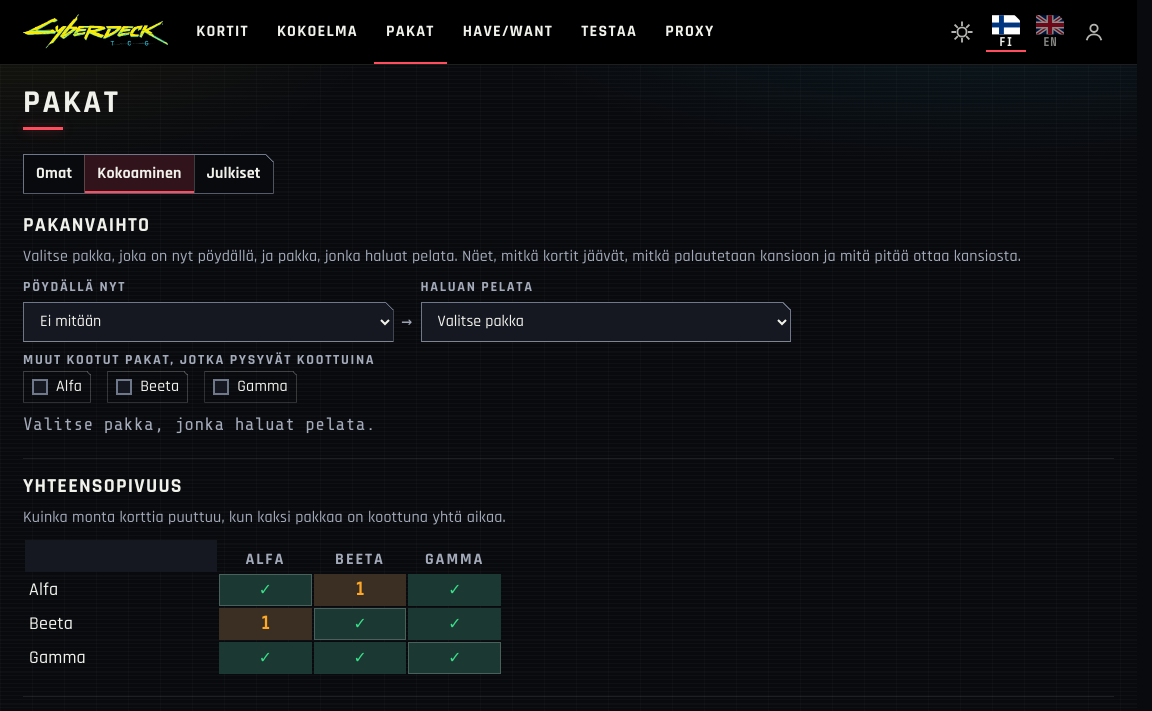
Test case: Kokoaminen tab (T-164) › says so when the same deck is on the table
Select "Alfa" in the dropdown labelled "Pöydällä nyt": (208, 322) [23, 302, 394, 342]
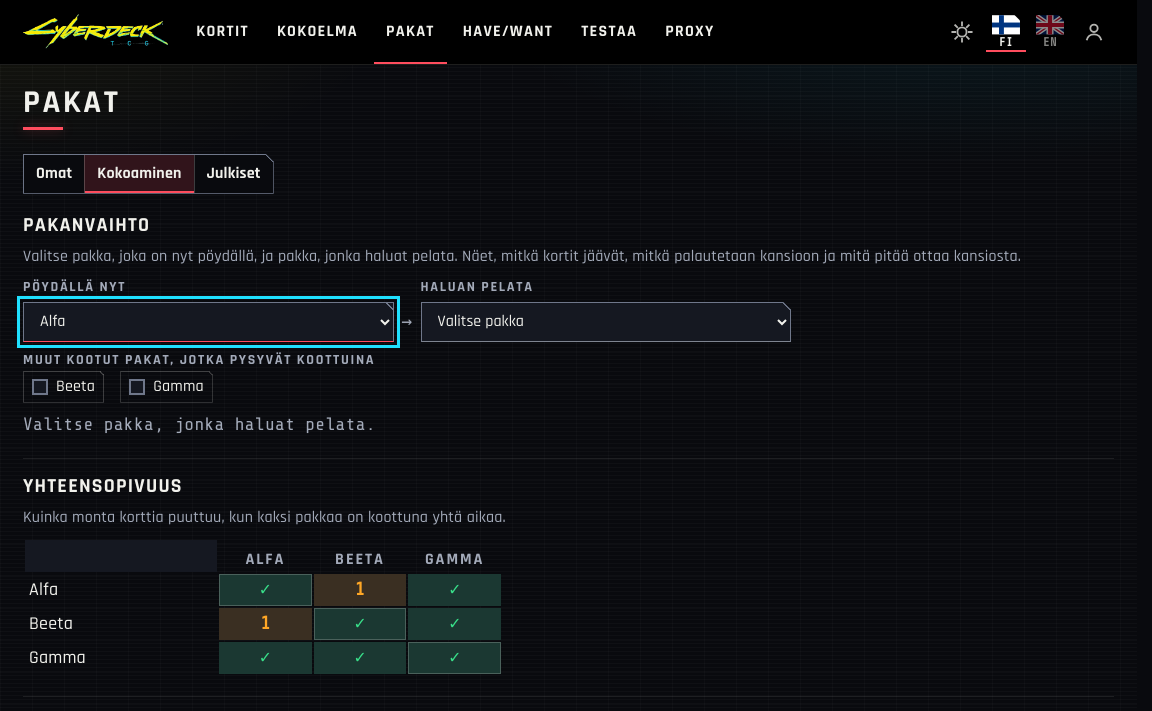
Select "Alfa" in the dropdown labelled "Haluan pelata": (606, 322) [420, 302, 791, 342]
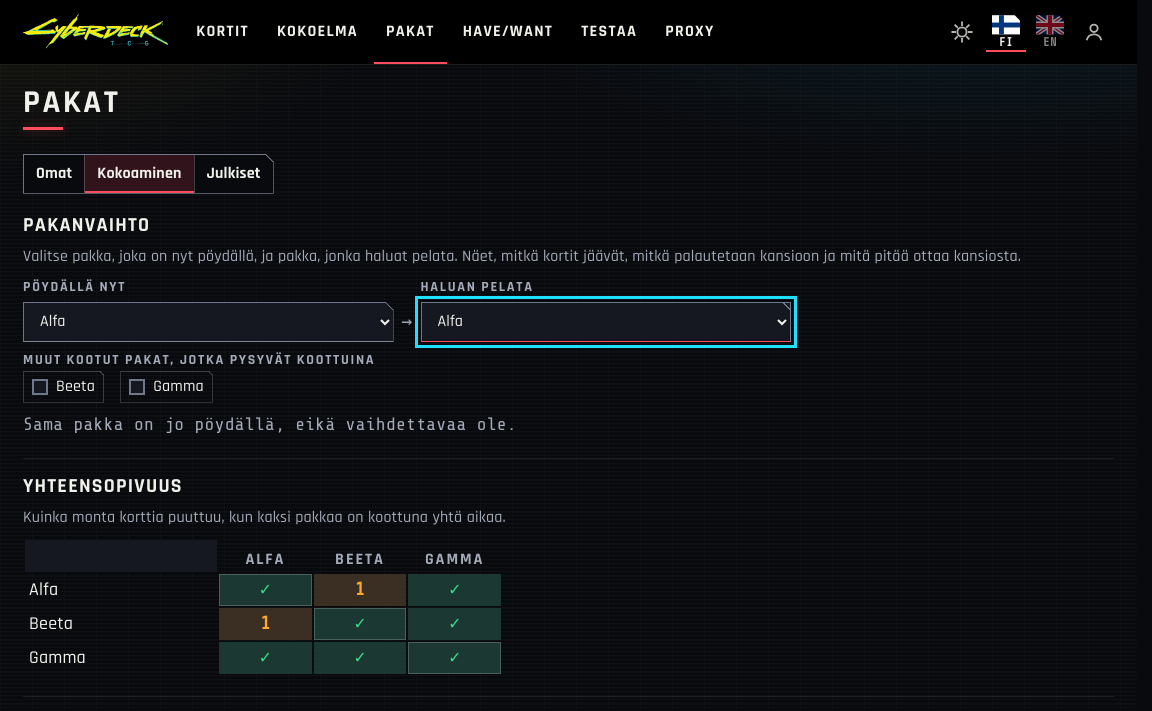
Expected: the text "Sama pakka on jo pöydällä, eikä vaihdettavaa ole." is shown, [23, 414, 517, 434]
